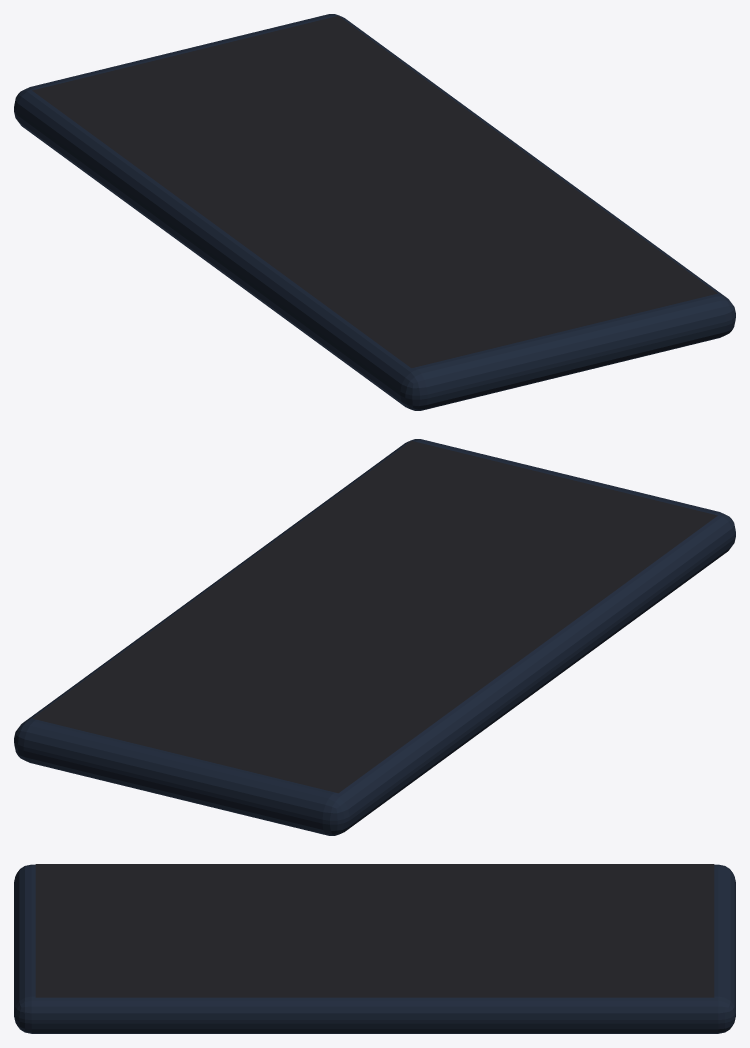
File: vivo-t-model-59-mid-range-2022.glb
3 views of the same model, one above another, from view 1: azimuth 30°, elevation 25°; view 2: azimuth 150°, elevation 25°; view 3: azimuth 270°, elevation 25° (orthographic). The views are drawn at different scales.
Visible parts, largest first — view 1: Phone_Screen, Phone_Body; view 2: Phone_Screen, Phone_Body; view 3: Phone_Screen, Phone_Body.
Boxes of the visible parts, bbox=[...] form: Phone_Screen: bbox=[32, 16, 717, 368]; Phone_Body: bbox=[14, 14, 735, 410]; Phone_Screen: bbox=[32, 441, 717, 793]; Phone_Body: bbox=[14, 439, 735, 835]; Phone_Screen: bbox=[35, 864, 714, 997]; Phone_Body: bbox=[14, 864, 735, 1033].
Size of the model in its own units: 0.0776 by 0.009 by 0.1629.
